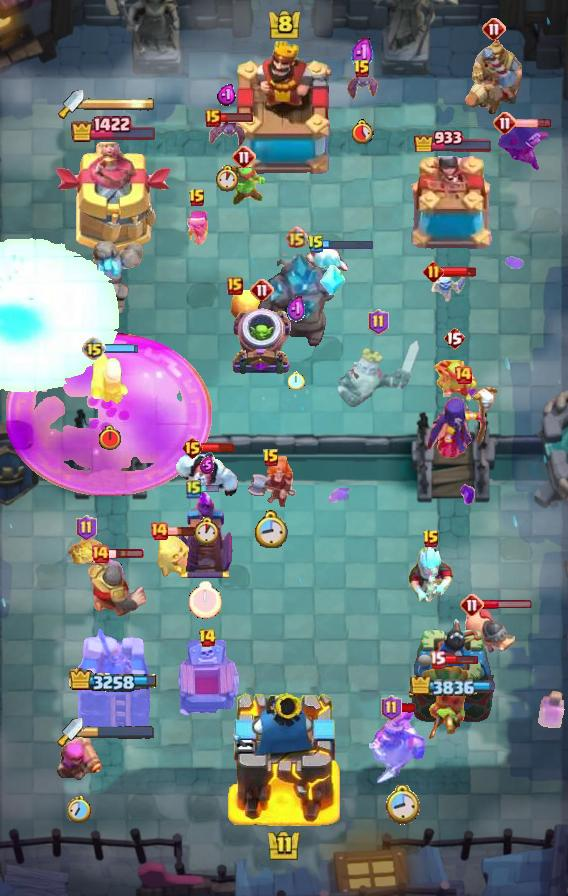bandit: (495, 123, 551, 171)
bar: (323, 238, 374, 250), (482, 599, 533, 610), (108, 548, 145, 560), (167, 525, 204, 537), (441, 266, 477, 278), (515, 118, 552, 129), (218, 112, 254, 123), (444, 654, 479, 665), (104, 343, 139, 354), (201, 442, 235, 453), (399, 702, 418, 714), (200, 484, 220, 494)
bar-level: (460, 593, 484, 617), (82, 337, 106, 361), (250, 278, 274, 302), (232, 145, 256, 169), (493, 111, 517, 135), (482, 17, 506, 41), (181, 436, 204, 460), (381, 695, 402, 721), (76, 515, 97, 541), (368, 309, 389, 335), (285, 226, 308, 249), (443, 326, 465, 350), (423, 261, 444, 282), (90, 544, 110, 564), (149, 521, 169, 541), (453, 365, 473, 385), (198, 628, 217, 648), (422, 529, 440, 549), (262, 448, 280, 468), (307, 234, 325, 254), (188, 188, 206, 208), (353, 59, 371, 79), (429, 650, 446, 669), (186, 479, 202, 499), (227, 277, 243, 295), (205, 109, 221, 127)
bat: (207, 119, 247, 149), (345, 73, 379, 101)
clock: (385, 785, 420, 826), (254, 510, 288, 548), (189, 581, 222, 619), (193, 517, 221, 546), (215, 165, 240, 192), (67, 796, 91, 823), (98, 425, 122, 451), (350, 119, 374, 144), (288, 371, 305, 390)
dagger-duchess-tower: (55, 142, 173, 256), (75, 623, 153, 731)
dagger-duchess-tower-bar: (83, 725, 155, 739), (84, 97, 156, 111)
dart-goblin: (420, 660, 480, 740)
elixir: (351, 36, 374, 71), (287, 295, 306, 324), (217, 84, 237, 106), (200, 456, 214, 474)
firecracker: (55, 730, 103, 784), (89, 348, 131, 406)
golemite: (73, 238, 147, 320)
heal-spirit: (156, 531, 192, 581)
ice-spirit: (305, 244, 351, 280)
ice-spirit-evolution-symbol: (319, 265, 345, 297)
ice-wizard: (407, 544, 455, 604)
king-tower: (227, 688, 342, 826), (228, 41, 340, 181)
knight: (86, 556, 147, 618)
lava-pup: (66, 535, 106, 571)
mortar-evolution: (230, 307, 294, 377)
phoenix-egg: (231, 286, 265, 324)
queen-tower: (409, 616, 497, 731), (407, 156, 499, 256)
royal-ghost: (334, 339, 422, 419)
royal-hog: (459, 606, 515, 654)
skeleton: (431, 271, 465, 303)
skeleton-evolution: (183, 211, 211, 247)
spear-goblin: (430, 355, 478, 403), (220, 164, 268, 208)
tower-bar: (70, 115, 158, 143), (69, 668, 160, 695), (413, 127, 494, 152), (410, 677, 496, 696)
valkyrie: (245, 456, 297, 508)
witch: (425, 385, 501, 459)
